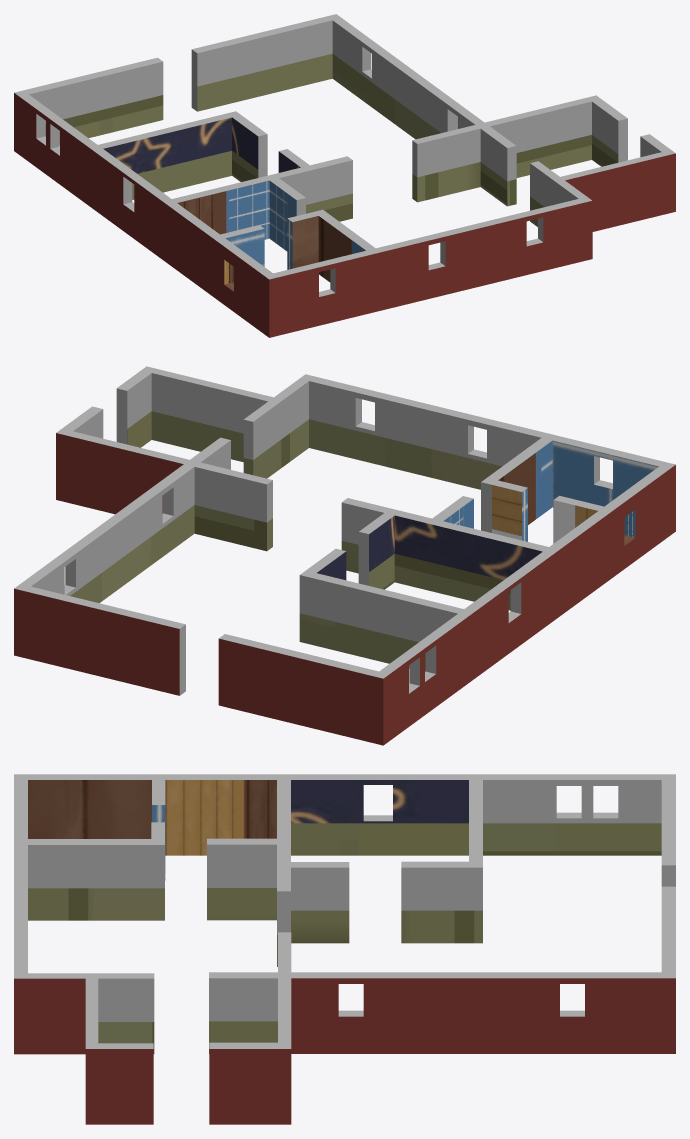
File: Walls.fbx
The picture shows the model from 3 angles, top to bottom: view 1: azimuth 30°, elevation 25°; view 2: azimuth 150°, elevation 25°; view 3: azimuth 270°, elevation 25°; orthographic projection. The views are drawn at different scales.
Parts seen in each view (by area): view 1: Plane; view 2: Plane; view 3: Plane.
Boxes of the visible parts, bbox=[...] form: Plane: bbox=[14, 14, 675, 337]; Plane: bbox=[14, 366, 675, 745]; Plane: bbox=[14, 774, 675, 1124].
Size of the model in its own units: 1555 by 200 by 1583.
